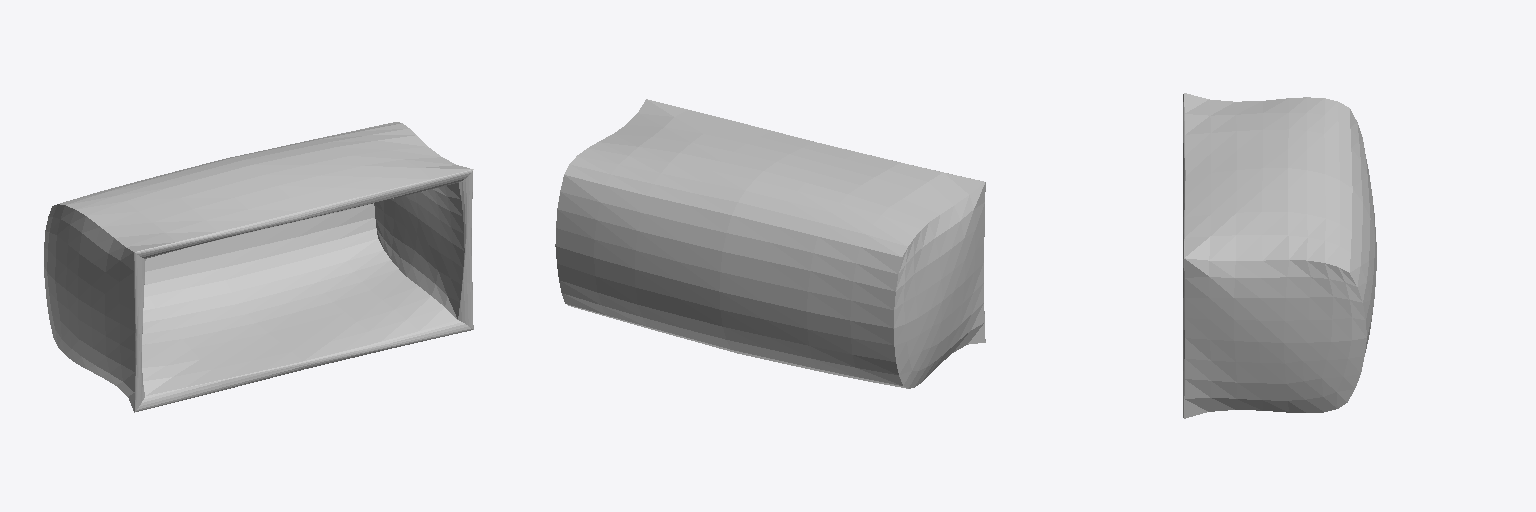
The model's file is water basin.obj.
3 renders of one model, left to right at view 1: azimuth 30°, elevation 25°; view 2: azimuth 150°, elevation 25°; view 3: azimuth 270°, elevation 25°, orthographic.
Visible parts, largest first — view 1: Object.1; view 2: Object.1; view 3: Object.1.
Boxes of the visible parts, x1=… form: Object.1: x1=44, y1=122, x2=473, y2=412; Object.1: x1=555, y1=99, x2=985, y2=388; Object.1: x1=1183, y1=93, x2=1376, y2=418.
Bounding box in the file's own units: 86.62 × 41.29 × 41.4.